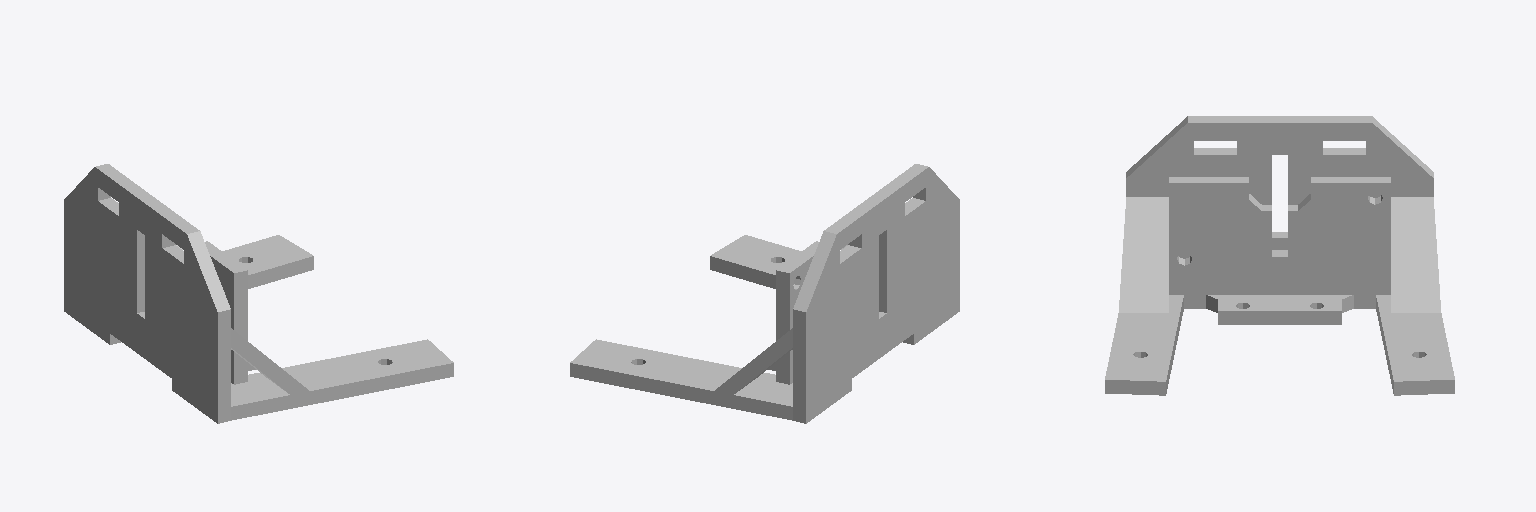
File: mount.obj
3 views of the same model, side by side, from view 1: azimuth 30°, elevation 25°; view 2: azimuth 150°, elevation 25°; view 3: azimuth 270°, elevation 25° (orthographic).
Parts seen in each view (by area): view 1: BOEBOT_Mount_V1; view 2: BOEBOT_Mount_V1; view 3: BOEBOT_Mount_V1.
Part boxes in pixels (x1,y1,x2,y2): BOEBOT_Mount_V1: (64,164,453,423); BOEBOT_Mount_V1: (570,164,959,423); BOEBOT_Mount_V1: (1105,116,1454,395).
Bounding box in the file's own units: 2.16 × 1.5 × 2.85.